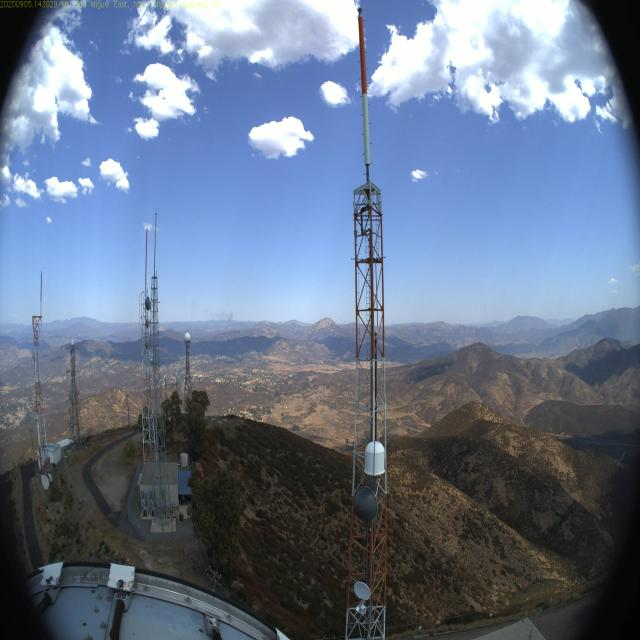smoke: (190, 300, 233, 332)
